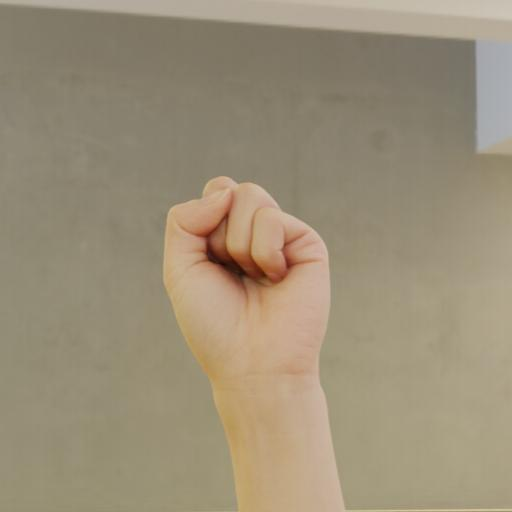S: (156, 160, 340, 409)
